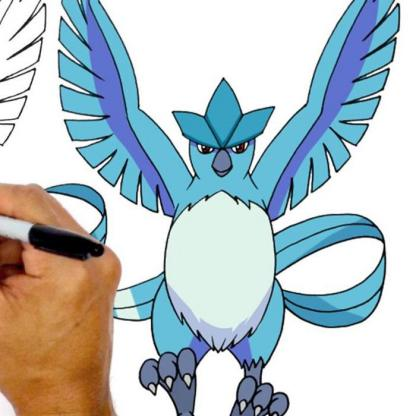Articuno: (1, 19, 416, 416)
